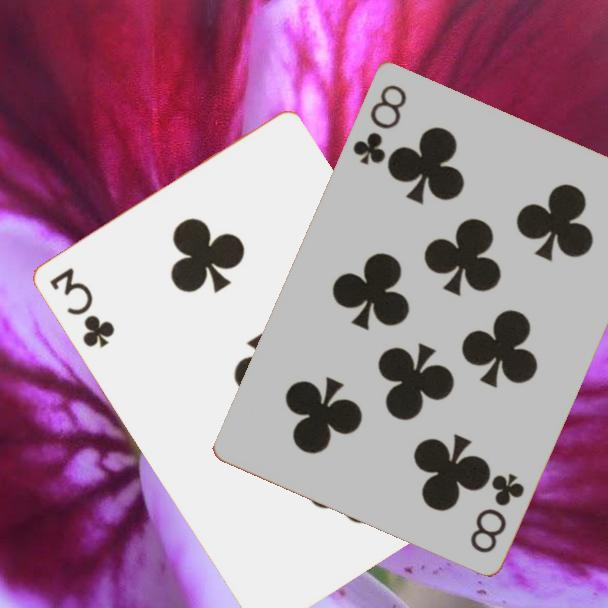c03: (46, 264, 119, 352)
c08: (466, 469, 527, 556), (349, 80, 409, 168)
